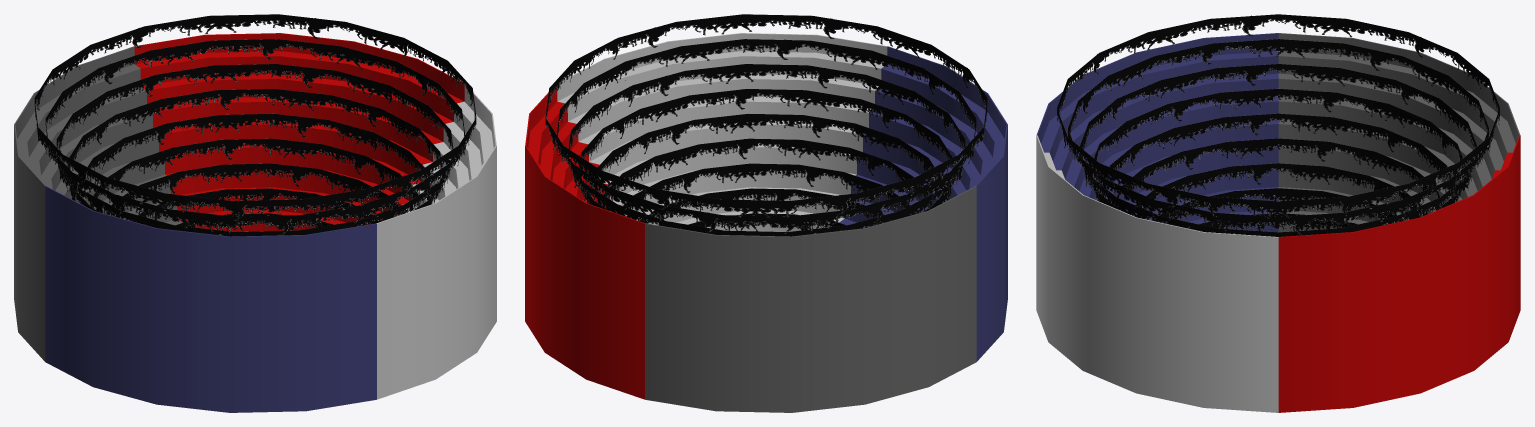
Rendered from BoxingRing.fbx.
The picture shows the model from 3 angles, left to right: view 1: azimuth 30°, elevation 25°; view 2: azimuth 150°, elevation 25°; view 3: azimuth 270°, elevation 25°; orthographic projection.
Visible parts, largest first — view 1: pPipe1, polySurface10, polySurface9, polySurface8, polySurface7, polySurface6, polySurface5, polySurface4, polySurface3, polySurface2; view 2: pPipe1, polySurface10, polySurface9, polySurface8, polySurface7, polySurface6, polySurface5, polySurface4, polySurface3, polySurface2; view 3: pPipe1, polySurface10, polySurface9, polySurface8, polySurface7, polySurface6, polySurface5, polySurface4, polySurface3, polySurface2.
Boxes of the visible parts, box(x1,y1,x2,y2) form: pPipe1: box(14, 33, 496, 412); polySurface10: box(34, 14, 476, 220); polySurface9: box(45, 39, 465, 235); polySurface8: box(56, 64, 453, 236); polySurface7: box(67, 89, 441, 211); polySurface6: box(79, 113, 431, 204); polySurface5: box(90, 138, 419, 208); polySurface4: box(106, 163, 404, 216); polySurface3: box(131, 188, 382, 224); polySurface2: box(176, 213, 333, 231); pPipe1: box(525, 33, 1007, 412); polySurface10: box(545, 14, 987, 218); polySurface9: box(556, 39, 976, 233); polySurface8: box(567, 64, 965, 236); polySurface7: box(578, 89, 954, 212); polySurface6: box(590, 113, 942, 204); polySurface5: box(602, 138, 931, 207); polySurface4: box(617, 163, 915, 214); polySurface3: box(640, 188, 883, 223); polySurface2: box(681, 213, 845, 231); pPipe1: box(1036, 33, 1520, 412); polySurface10: box(1057, 14, 1499, 218); polySurface9: box(1068, 39, 1488, 235); polySurface8: box(1079, 64, 1477, 236); polySurface7: box(1092, 88, 1465, 210); polySurface6: box(1101, 113, 1455, 196); polySurface5: box(1114, 138, 1442, 206); polySurface4: box(1131, 163, 1427, 215); polySurface3: box(1153, 188, 1403, 224); polySurface2: box(1199, 213, 1357, 231).
Bounding box in the file's own units: 250 × 117 × 250.
